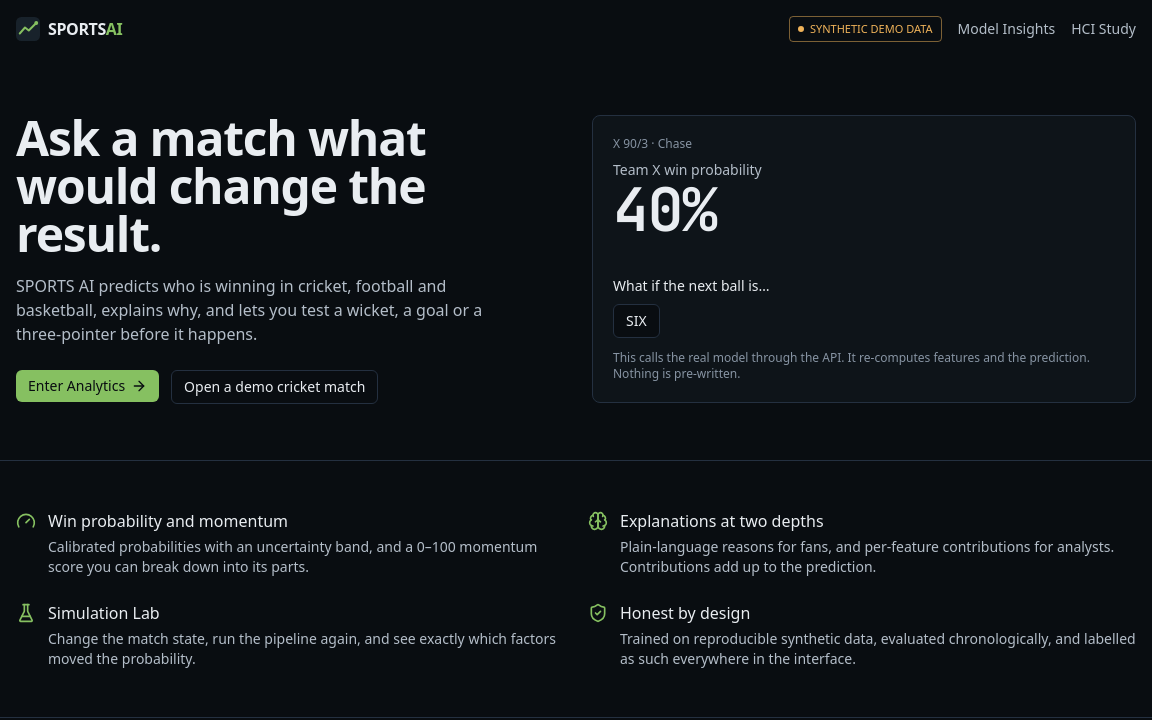
Test: Landing live what-if › re-runs the simulation endpoint when an event is chosen
The image size is (1152, 720).
Click the button "SIX" at point(636, 321), box [613,304,660,338]
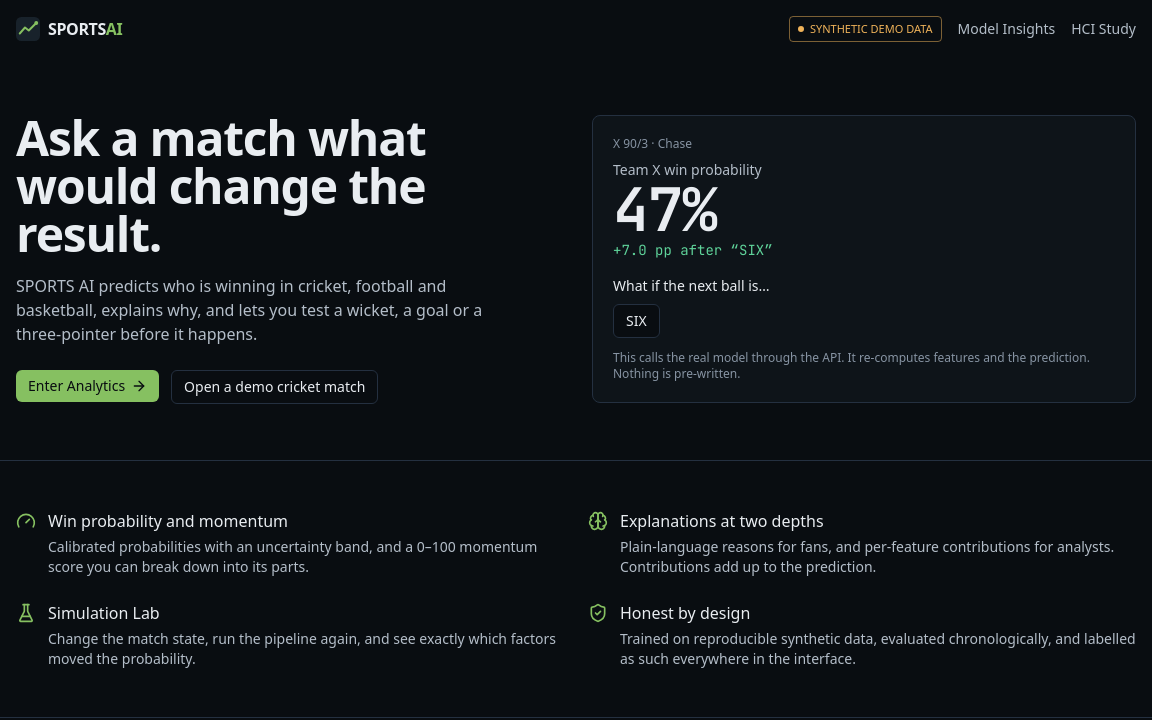
Result: the text "47%" is shown at [613,170,716,249]
